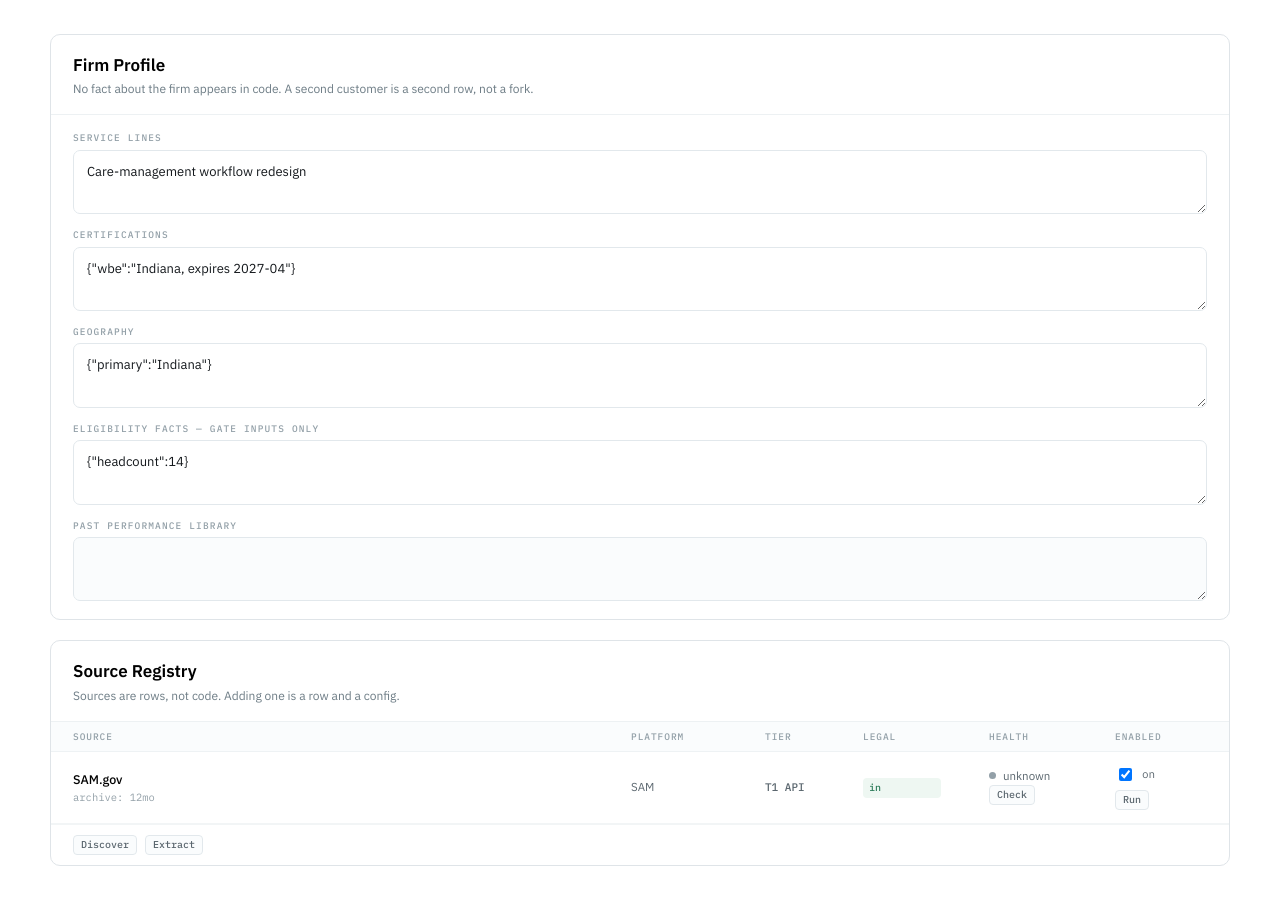
Scenario: a Run whose request never completes surfaces the reason and frees the row
This screenshot has width=1280, height=900.
Step 1. Click the button with aria-label "run sam.gov" → (1132, 800), box [1115,790,1149,810]
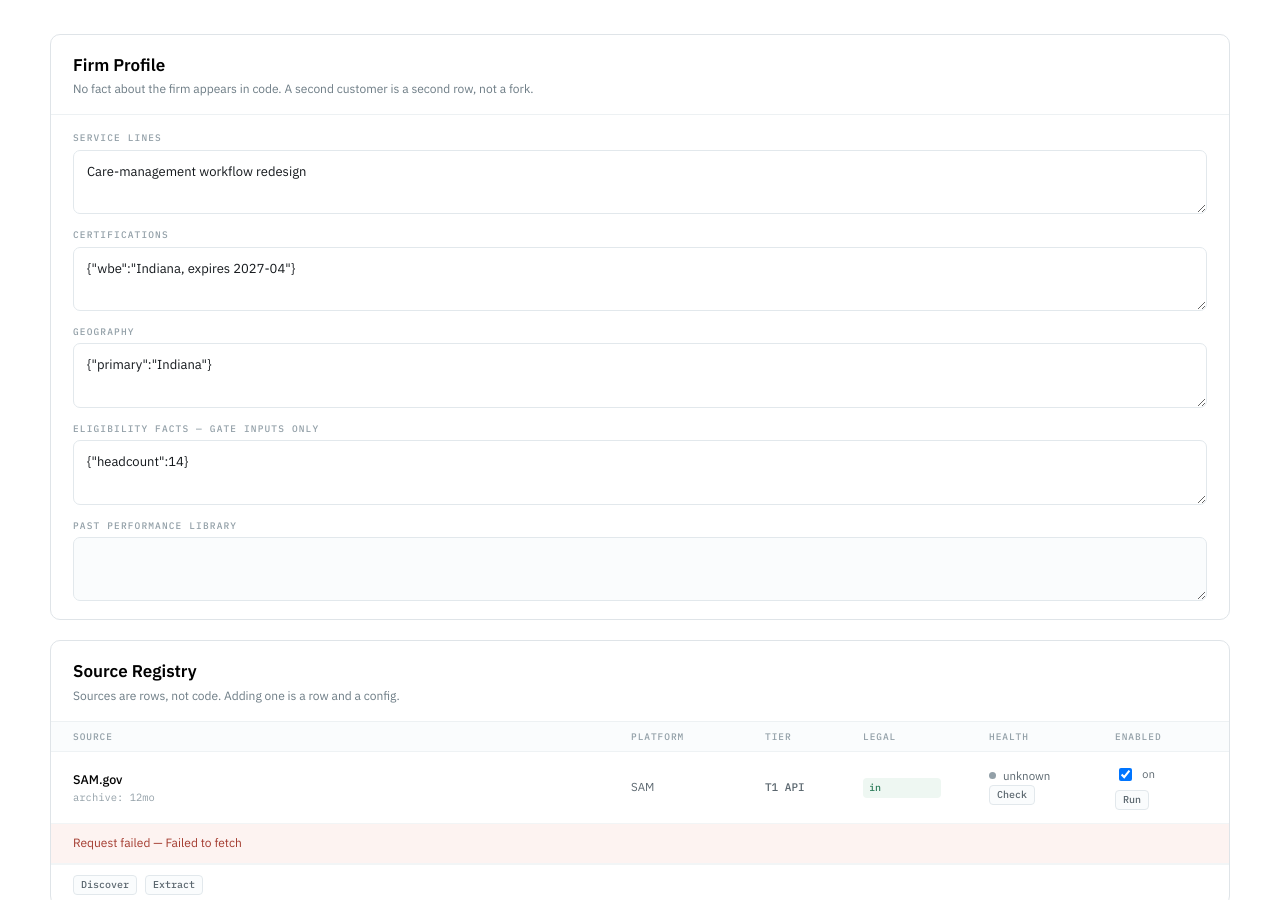
Now the message shows "Failed to fetch", box [73,835,242,850]
